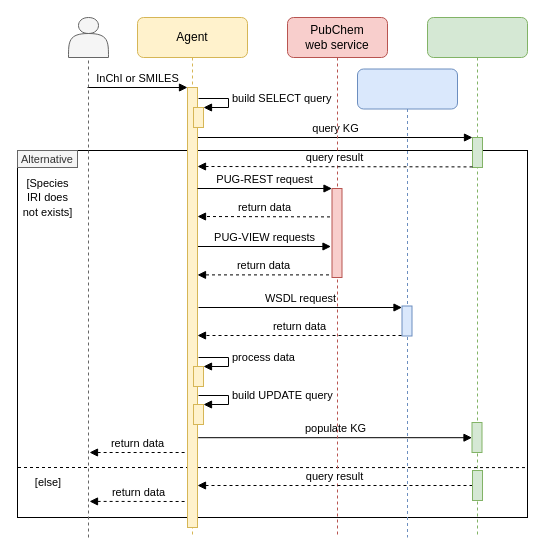
This 546x556 diagram has some shape labels left out. Each missing label, with the box of its shape:
ChEBI web service: (356, 68, 458, 538)
TWA KG: (426, 16, 528, 538)
